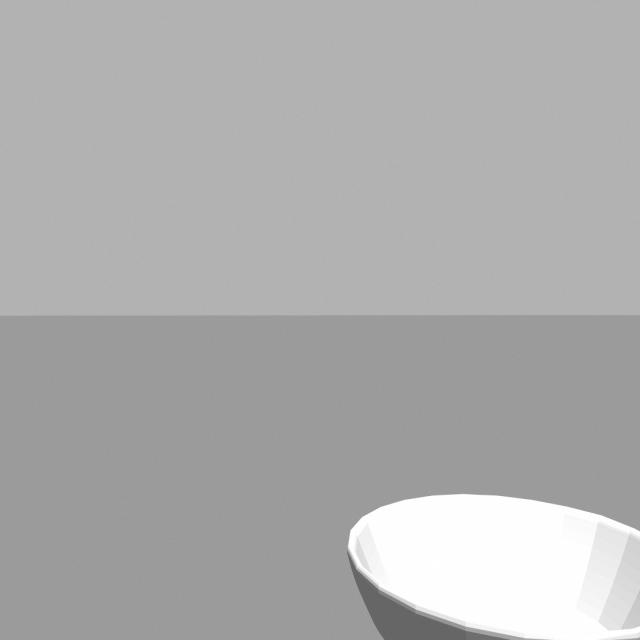bowl: (325, 464, 640, 640)
